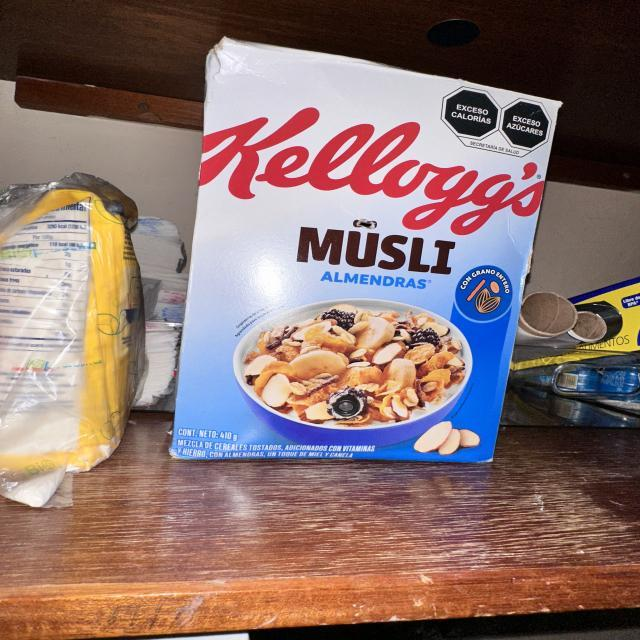hidden camera: (334, 400, 359, 417)
